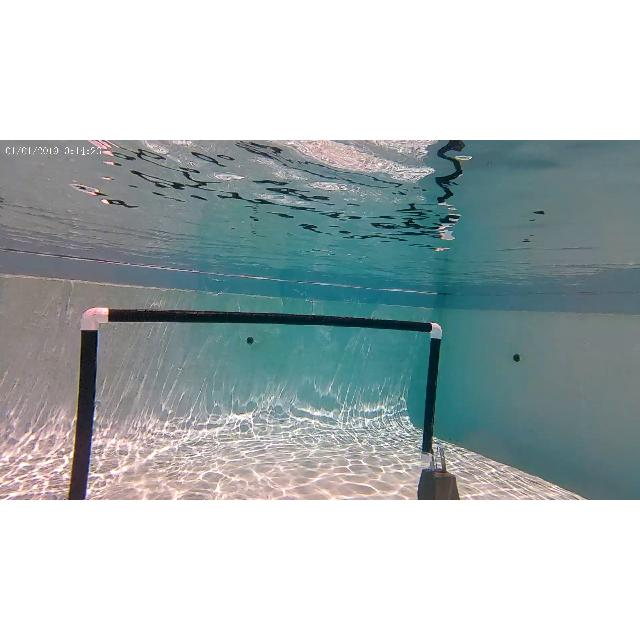prequal gate: (68, 306, 442, 500)
prequal gate leg l: (64, 302, 116, 500)
prequal gate leg r: (408, 312, 446, 473)
